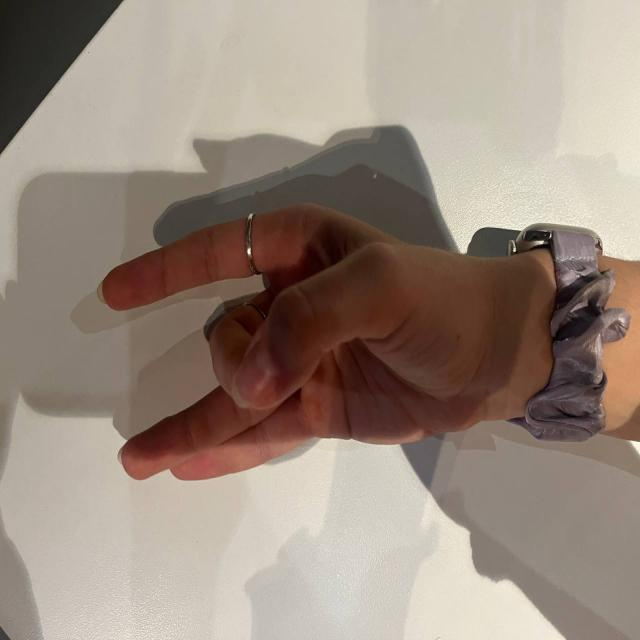r: (87, 184, 495, 514)
